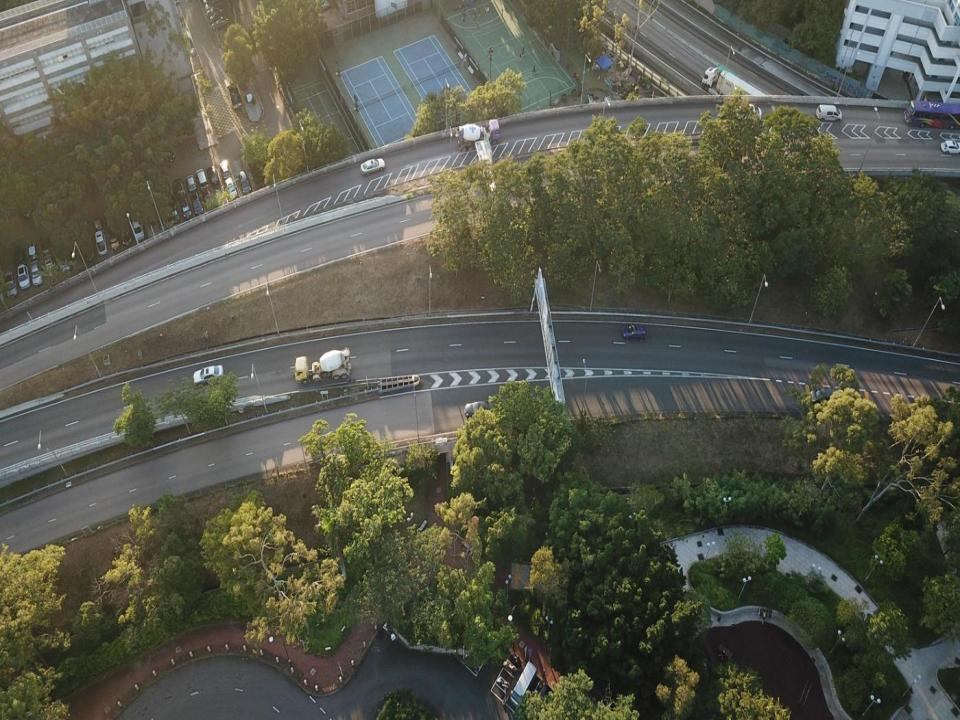bus: (903, 99, 960, 128), (224, 77, 242, 110)
car: (192, 364, 224, 386), (464, 399, 494, 418), (735, 103, 762, 121), (360, 157, 385, 176), (621, 323, 646, 341), (4, 270, 20, 298), (810, 387, 836, 404), (95, 229, 108, 256), (30, 263, 44, 288), (238, 171, 252, 195), (17, 264, 30, 289), (166, 201, 180, 224), (939, 139, 960, 154), (191, 191, 203, 217), (59, 252, 73, 274), (202, 190, 216, 210), (120, 221, 131, 246), (212, 16, 231, 30), (84, 237, 95, 261), (210, 8, 227, 23), (180, 198, 191, 221), (186, 174, 198, 195), (108, 228, 119, 250), (205, 0, 225, 12), (174, 178, 185, 199), (206, 166, 218, 185), (225, 178, 236, 198), (219, 162, 231, 180), (207, 4, 224, 16), (164, 144, 175, 162)
truck: (701, 66, 776, 114), (292, 345, 353, 385), (453, 120, 501, 152)
van: (510, 662, 537, 706), (38, 234, 55, 272), (816, 105, 842, 122), (132, 214, 144, 241), (196, 167, 208, 191), (93, 209, 105, 233), (14, 250, 26, 268), (28, 241, 38, 262)
